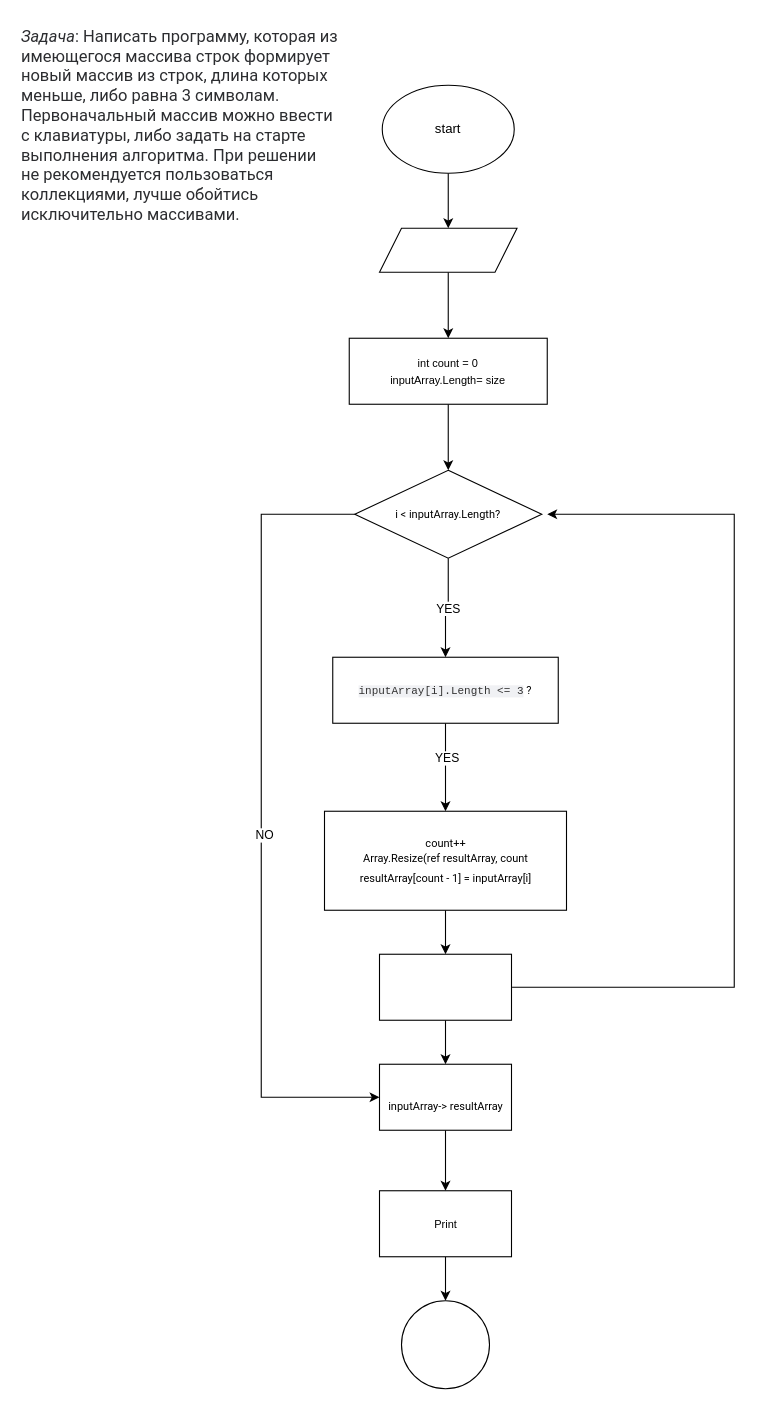
Image size: 762x1408. Some labels were removed from this diagram. Here are the shapes that lost their labels. From the top down, the box of each, then its label:
(378, 227, 517, 272): ввод inputArray
(378, 953, 512, 1020): i++
(400, 1300, 490, 1389): end
